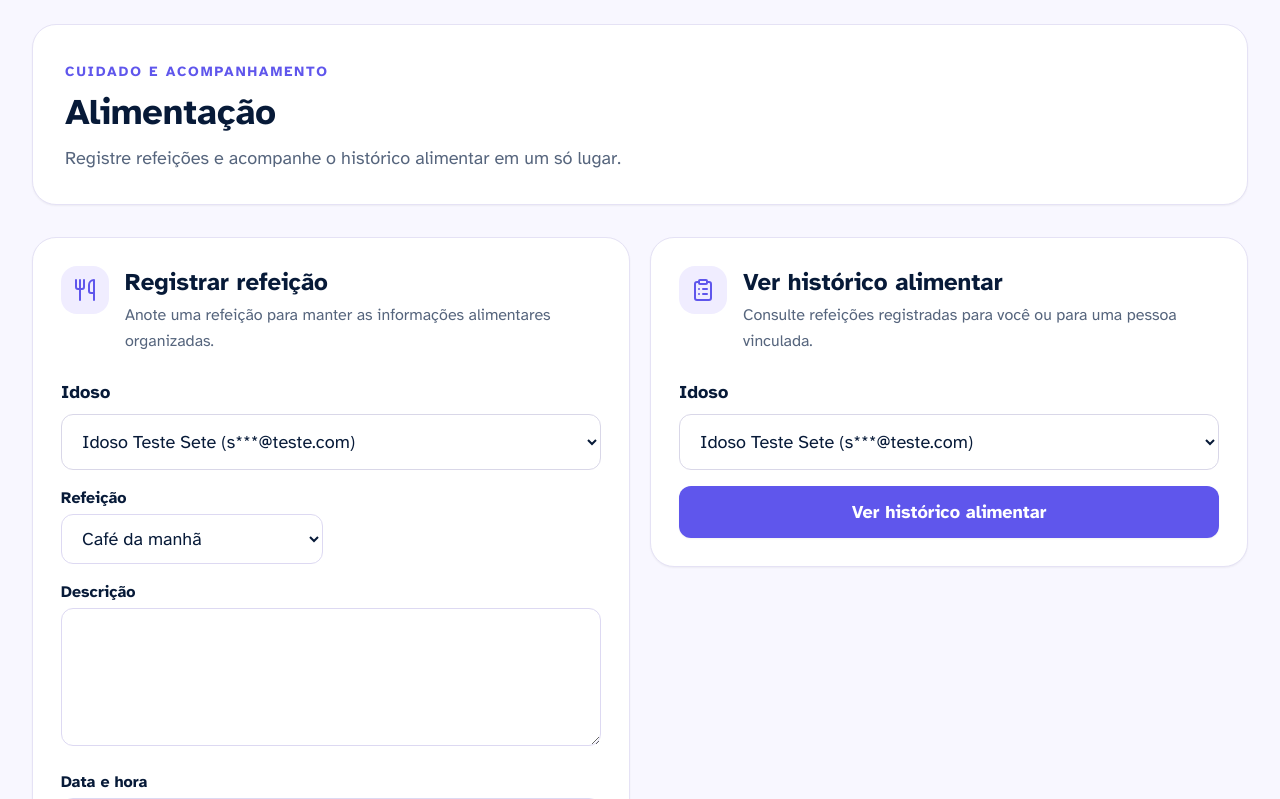
Test: Alimentacao: acessibilidade › sucesso em role=status visível
Type "Descricao Ficticia" into the text box labelled "Descrição" at (331, 677), box [61,608,601,746]
(page scrolled)
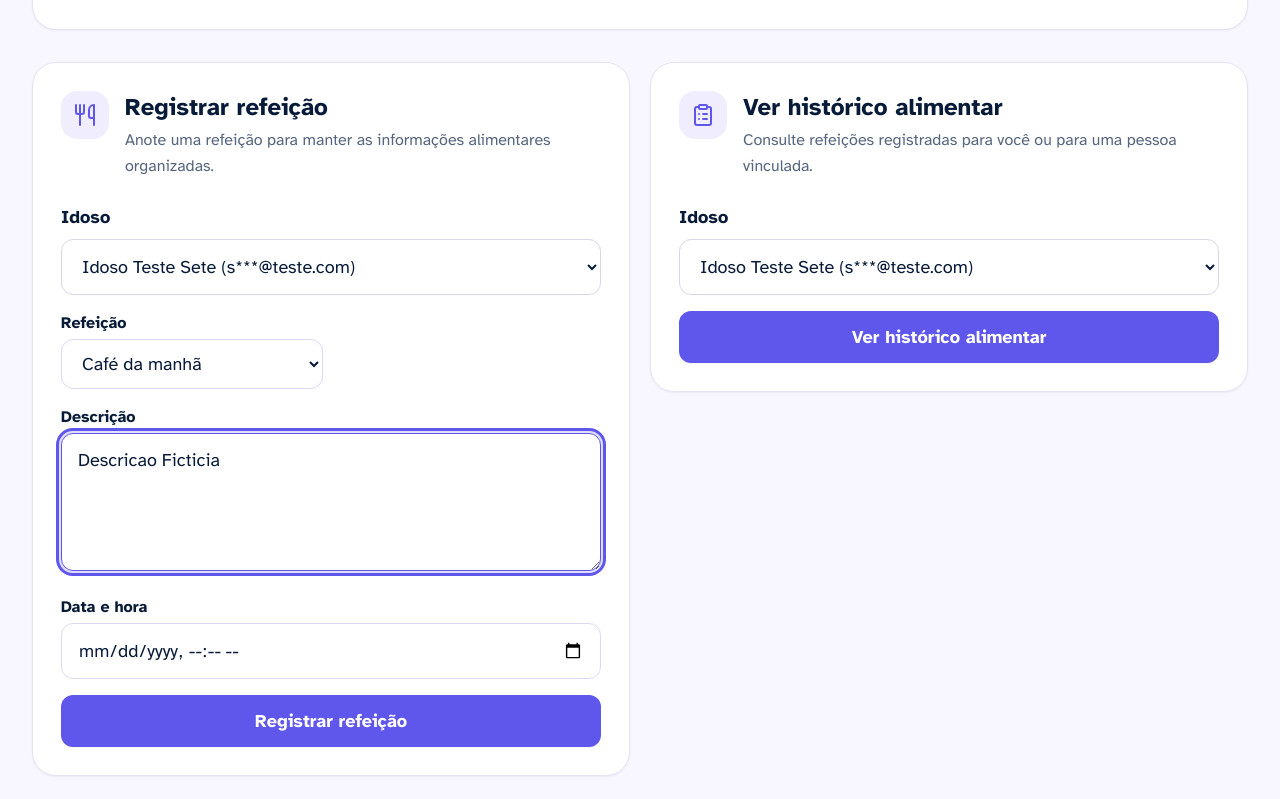
Type "2026-10-10T12:30" into the field labelled "Data e hora" at (331, 651), box [61,623,601,679]
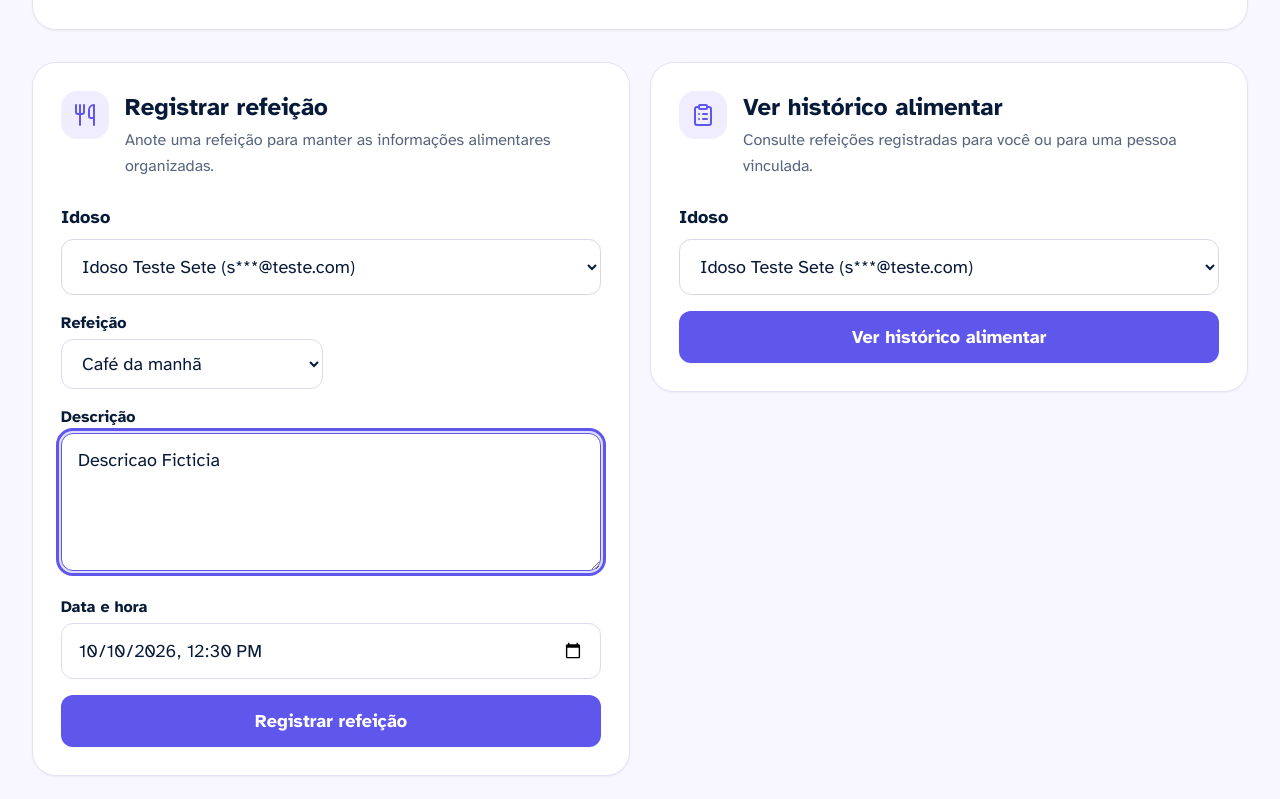
Click the button "Registrar refeição" at (331, 721), box [61,695,601,747]
(page scrolled)
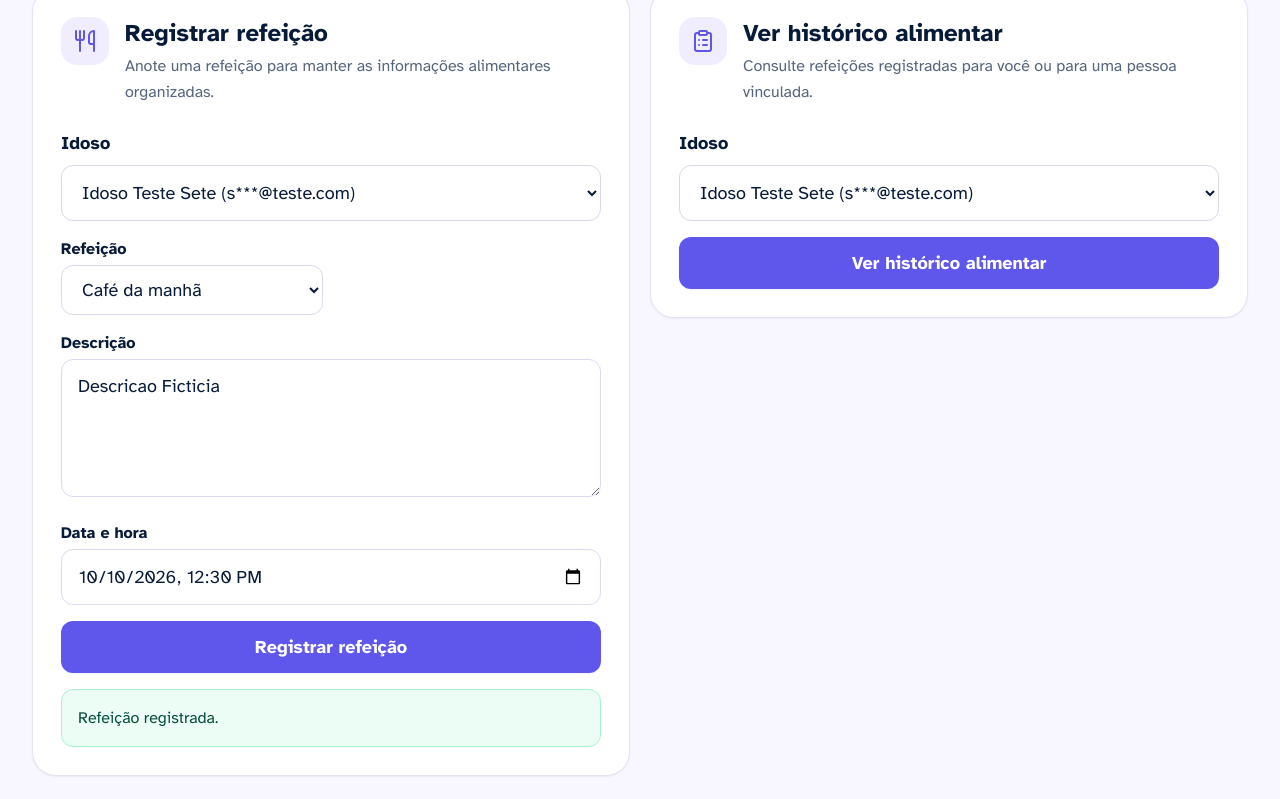
Check: the message "Refeição registrada." is shown, box [61,689,601,747]
